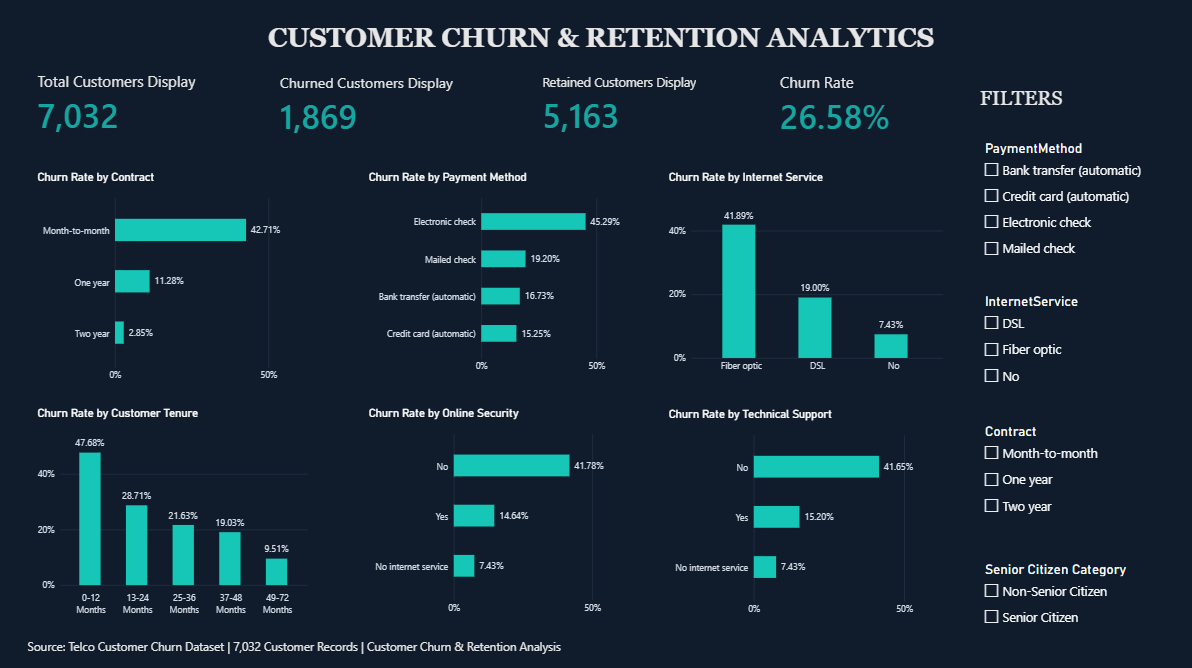

This screenshot's page, from the dashboard's own definition file:
{"tool":"powerbi","page":{"name":"Executive Overview","canvas":[1920,1080],"ordinal":0},"visuals":[{"type":"cardVisual","fields":{"Data":["Telco-Customer-Churn-Cleaned.Total Customers Display"]},"box":[44,110,294,114],"z":0},{"type":"cardVisual","fields":{"Data":["Telco-Customer-Churn-Cleaned.Churned Customers Display"]},"box":[432,112,313.5,113.5],"z":1000},{"type":"cardVisual","fields":{"Data":["Telco-Customer-Churn-Cleaned.Retained Customers Display"]},"box":[852,112,290.4,113.5],"z":2000},{"type":"cardVisual","fields":{"Data":["Telco-Customer-Churn-Cleaned.Churn Rate"]},"box":[1232,112,292.3,113.5],"z":3000},{"type":"textbox","box":[400,36,1123.1,73.1],"z":4000},{"type":"clusteredBarChart","title":"Churn Rate by Contract","fields":{"Category":["Telco-Customer-Churn-Cleaned.Contract"],"Y":["Telco-Customer-Churn-Cleaned.Churn Rate"]},"box":[44,258,464.6,372.9],"z":5000},{"type":"clusteredColumnChart","title":"Churn Rate by Internet Service","fields":{"Category":["Telco-Customer-Churn-Cleaned.InternetService"],"Y":["Telco-Customer-Churn-Cleaned.Churn Rate"]},"box":[1054,258,470.8,358.3],"z":6000},{"type":"clusteredBarChart","title":"Churn Rate by Payment Method","fields":{"Category":["Telco-Customer-Churn-Cleaned.PaymentMethod"],"Y":["Telco-Customer-Churn-Cleaned.Churn Rate"]},"box":[574,258,447.9,358.3],"z":7000},{"type":"clusteredColumnChart","title":"Churn Rate by Customer Tenure","fields":{"Category":["Telco-Customer-Churn-Cleaned.TenureGroup"],"Y":["Telco-Customer-Churn-Cleaned.Churn Rate"]},"box":[44,636,464.6,366.7],"z":8000},{"type":"clusteredBarChart","title":"Churn Rate by Online Security","fields":{"Category":["Telco-Customer-Churn-Cleaned.OnlineSecurity"],"Y":["Telco-Customer-Churn-Cleaned.Churn Rate"]},"box":[574,636,447.9,366.7],"z":9000},{"type":"clusteredBarChart","title":"Churn Rate by Technical Support","fields":{"Category":["Telco-Customer-Churn-Cleaned.TechSupport"],"Y":["Telco-Customer-Churn-Cleaned.Churn Rate"]},"box":[1054,638,470.8,366.7],"z":10000},{"type":"slicer","fields":{"Values":["Telco-Customer-Churn-Cleaned.Contract"]},"box":[1568,678,316.7,166.7],"z":11000},{"type":"slicer","fields":{"Values":["Telco-Customer-Churn-Cleaned.InternetService"]},"box":[1568,470,316.7,166.7],"z":12000},{"type":"slicer","fields":{"Values":["Telco-Customer-Churn-Cleaned.PaymentMethod"]},"box":[1568,224,317.3,207.7],"z":13000},{"type":"slicer","fields":{"Values":["Telco-Customer-Churn-Cleaned.Senior Citizen Category"]},"box":[1568,898,316.7,183.3],"z":14000},{"type":"textbox","box":[1568,138,318,86],"z":15000},{"type":"textbox","box":[44,1022,882,58],"z":15001}]}

Visuals, with their boxes in screenshot pixels (x1, y1, x2, y2), scaled from the page's 1920x1080 canvas onto the 1192x668 screenshot:
cardVisual - Telco-Customer-Churn-Cleaned.Total Customers Display: {"left": 27, "top": 68, "right": 210, "bottom": 139}
cardVisual - Telco-Customer-Churn-Cleaned.Churned Customers Display: {"left": 268, "top": 69, "right": 463, "bottom": 139}
cardVisual - Telco-Customer-Churn-Cleaned.Retained Customers Display: {"left": 529, "top": 69, "right": 709, "bottom": 139}
cardVisual - Telco-Customer-Churn-Cleaned.Churn Rate: {"left": 765, "top": 69, "right": 946, "bottom": 139}
textbox: {"left": 248, "top": 22, "right": 946, "bottom": 67}
"Churn Rate by Contract" clusteredBarChart: {"left": 27, "top": 160, "right": 316, "bottom": 390}
"Churn Rate by Internet Service" clusteredColumnChart: {"left": 654, "top": 160, "right": 947, "bottom": 381}
"Churn Rate by Payment Method" clusteredBarChart: {"left": 356, "top": 160, "right": 634, "bottom": 381}
"Churn Rate by Customer Tenure" clusteredColumnChart: {"left": 27, "top": 393, "right": 316, "bottom": 620}
"Churn Rate by Online Security" clusteredBarChart: {"left": 356, "top": 393, "right": 634, "bottom": 620}
"Churn Rate by Technical Support" clusteredBarChart: {"left": 654, "top": 395, "right": 947, "bottom": 621}
slicer - Telco-Customer-Churn-Cleaned.Contract: {"left": 973, "top": 419, "right": 1170, "bottom": 522}
slicer - Telco-Customer-Churn-Cleaned.InternetService: {"left": 973, "top": 291, "right": 1170, "bottom": 394}
slicer - Telco-Customer-Churn-Cleaned.PaymentMethod: {"left": 973, "top": 139, "right": 1170, "bottom": 267}
slicer - Telco-Customer-Churn-Cleaned.Senior Citizen Category: {"left": 973, "top": 555, "right": 1170, "bottom": 667}
textbox: {"left": 973, "top": 85, "right": 1171, "bottom": 139}
textbox: {"left": 27, "top": 632, "right": 575, "bottom": 667}
